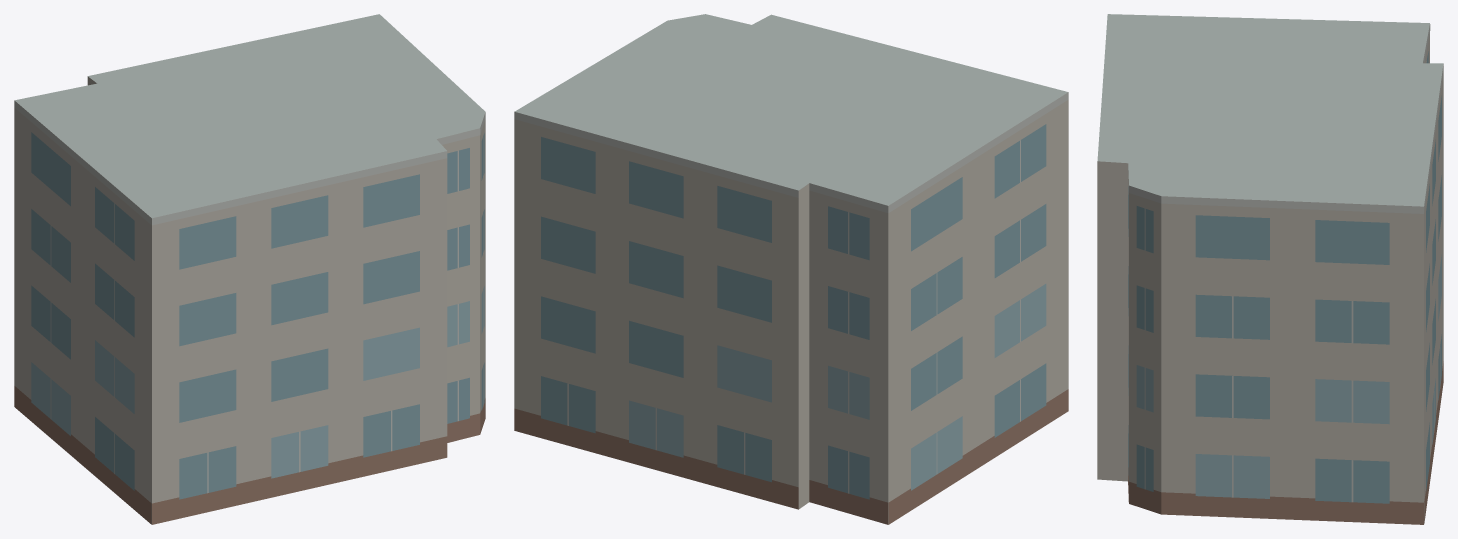
Rendered from survey-upis-32775962.glb.
3 views of the same model, side by side, from view 1: azimuth 30°, elevation 25°; view 2: azimuth 150°, elevation 25°; view 3: azimuth 270°, elevation 25° (orthographic). The views are drawn at different scales.
Parts seen in each view (by area): view 1: survey-upis-32775962.tmp; view 2: survey-upis-32775962.tmp; view 3: survey-upis-32775962.tmp.
Boxes of the visible parts, x1,y1,x2,y2 form: survey-upis-32775962.tmp: [14, 14, 485, 524]; survey-upis-32775962.tmp: [514, 14, 1068, 524]; survey-upis-32775962.tmp: [1097, 14, 1443, 524].
Bounding box in the file's own units: 13.64 × 10.5 × 10.36.
